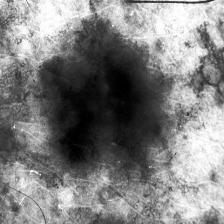Benign Marking or Mole: (41, 17, 161, 173)
